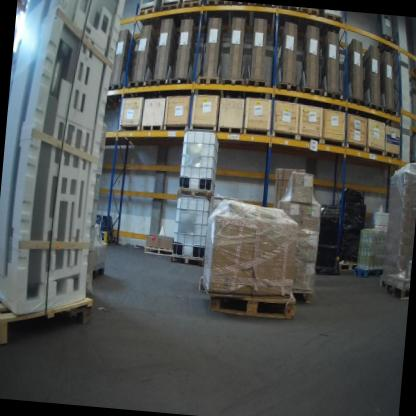pallet: (0, 269, 106, 356), (193, 274, 316, 325), (134, 3, 165, 37), (180, 0, 209, 35), (203, 0, 233, 33), (321, 11, 346, 49), (106, 77, 131, 114), (160, 0, 185, 35), (272, 77, 301, 107), (196, 68, 223, 100), (174, 183, 215, 203), (297, 82, 326, 110), (244, 72, 271, 102), (297, 8, 321, 41), (127, 75, 155, 103), (221, 74, 247, 104), (230, 2, 252, 35), (165, 71, 194, 96), (252, 5, 274, 37), (147, 72, 169, 103), (382, 275, 409, 300), (277, 7, 301, 35), (321, 86, 345, 113), (346, 90, 369, 118), (142, 243, 178, 260), (378, 30, 397, 60), (83, 260, 103, 288), (354, 264, 385, 282), (383, 147, 405, 172), (380, 103, 401, 129), (169, 252, 206, 266), (366, 97, 387, 121), (338, 256, 354, 273)
